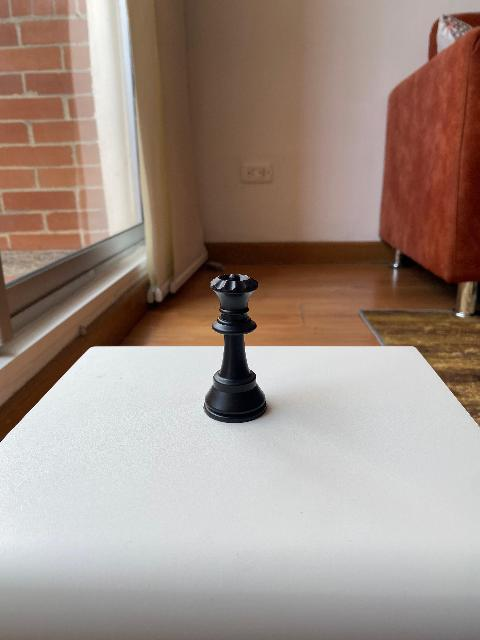black-queen: (202, 272, 268, 422)
